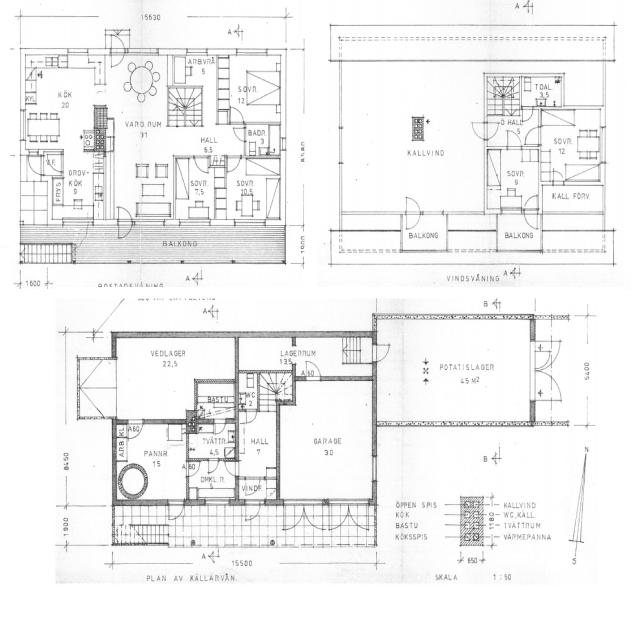door: (340, 54, 487, 214), (378, 318, 536, 424), (186, 460, 238, 500), (531, 342, 560, 404), (508, 205, 542, 250), (532, 371, 563, 401), (530, 341, 557, 372), (506, 126, 541, 148), (403, 194, 422, 232), (109, 33, 126, 68), (523, 193, 539, 230), (117, 206, 133, 240), (73, 220, 89, 250), (44, 153, 64, 175), (505, 128, 523, 152), (244, 498, 262, 522), (471, 120, 490, 141), (524, 125, 542, 147), (167, 498, 185, 520), (27, 154, 44, 177), (372, 342, 391, 362), (228, 105, 246, 126), (126, 419, 144, 440), (305, 359, 322, 381), (193, 155, 211, 174), (223, 459, 240, 477), (226, 154, 241, 173), (231, 125, 247, 142), (485, 122, 500, 140), (186, 459, 201, 477), (520, 105, 534, 124), (207, 457, 221, 476), (551, 168, 565, 186), (214, 418, 228, 436), (245, 408, 258, 425)
window: (111, 358, 120, 408), (600, 124, 609, 164), (235, 48, 268, 58), (204, 497, 232, 507), (370, 452, 379, 483), (67, 46, 89, 57), (186, 47, 208, 56)
zone: (343, 52, 488, 217), (278, 378, 375, 502), (24, 58, 100, 147), (116, 336, 236, 389), (115, 422, 188, 500), (539, 111, 602, 182), (222, 54, 283, 123), (220, 157, 281, 222), (487, 148, 541, 212), (54, 153, 106, 216), (482, 500, 557, 542), (174, 157, 223, 219), (237, 411, 278, 482), (185, 459, 238, 501), (541, 182, 604, 216), (237, 336, 295, 372), (294, 336, 344, 376), (188, 422, 238, 460), (496, 212, 541, 253), (195, 381, 238, 420), (403, 214, 447, 252), (520, 74, 565, 108), (172, 54, 219, 86), (26, 119, 62, 153), (79, 357, 116, 388), (236, 476, 278, 502), (245, 124, 278, 156), (237, 371, 259, 411), (0, 248, 19, 287), (18, 264, 47, 288), (372, 342, 391, 363)
